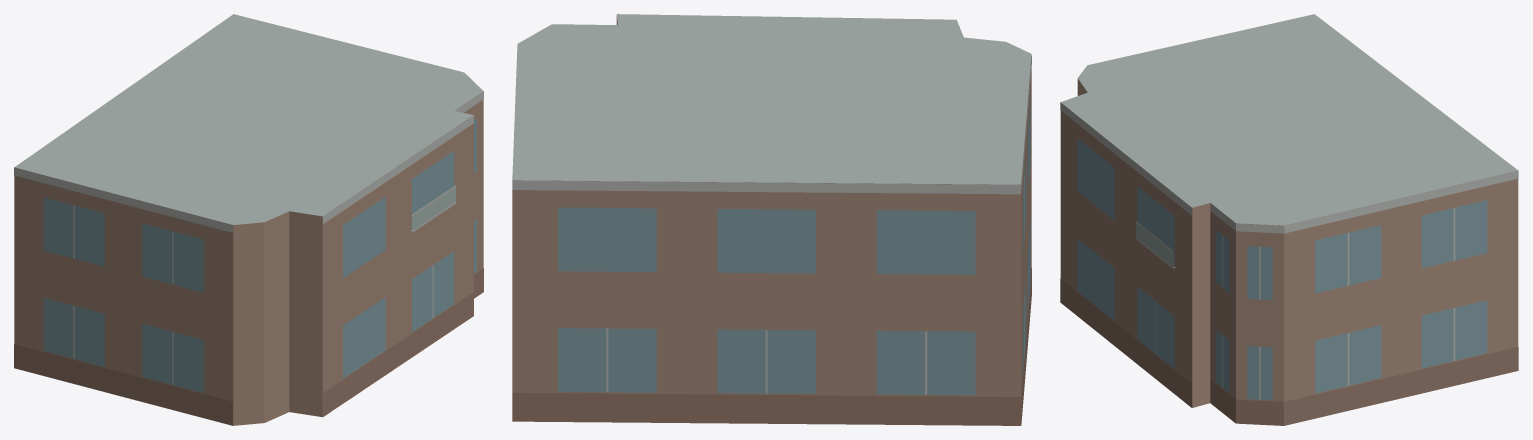
The model's file is survey-upis-32574514.glb.
3 views of the same model, side by side, from view 1: azimuth 30°, elevation 25°; view 2: azimuth 150°, elevation 25°; view 3: azimuth 270°, elevation 25° (orthographic). The views are drawn at different scales.
Parts seen in each view (by area): view 1: survey-upis-32574514.tmp; view 2: survey-upis-32574514.tmp; view 3: survey-upis-32574514.tmp.
Boxes of the visible parts, left/top/right/bottom form: survey-upis-32574514.tmp: left=14, top=14, right=483, bottom=425; survey-upis-32574514.tmp: left=512, top=14, right=1031, bottom=425; survey-upis-32574514.tmp: left=1060, top=14, right=1518, bottom=425.
Bounding box in the file's own units: 13.83 × 6.1 × 12.65.
